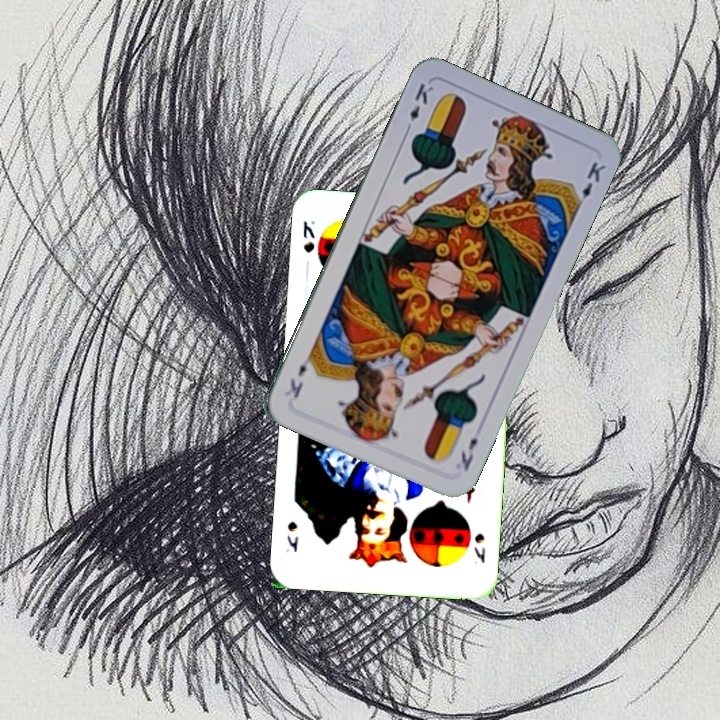EK: (401, 79, 436, 136), (457, 433, 481, 474)
SK: (299, 216, 317, 256), (470, 529, 488, 566)
